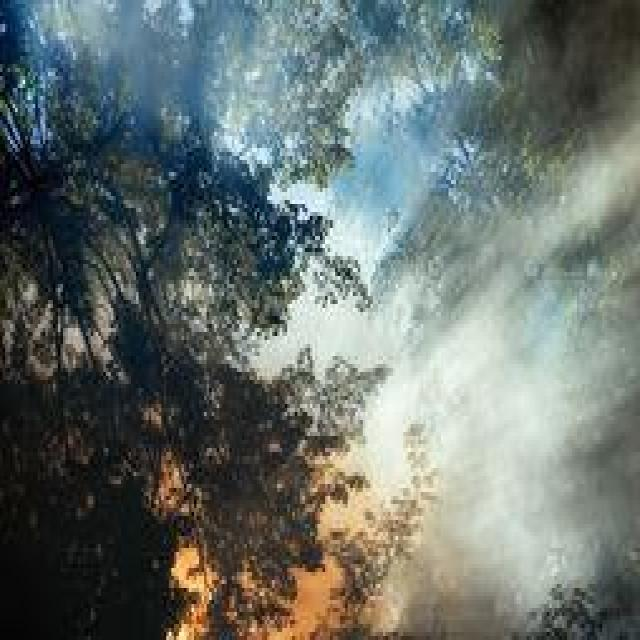fire: (169, 496, 340, 632)
